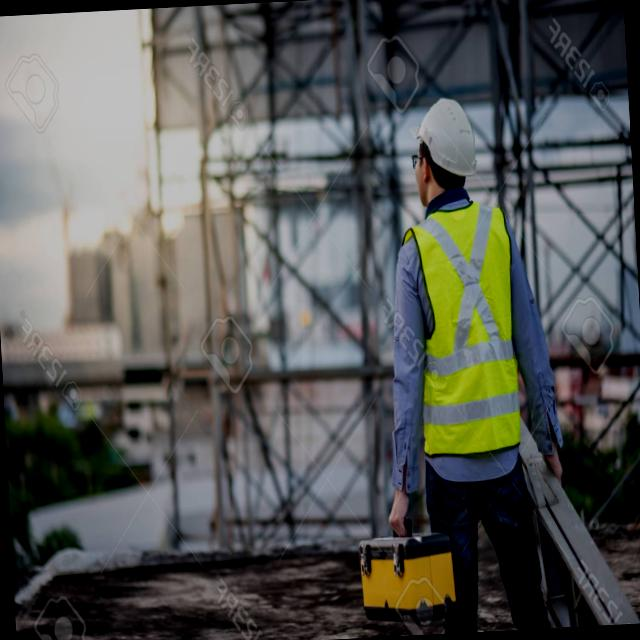helmet: (409, 83, 490, 175)
vest: (398, 188, 522, 482)
